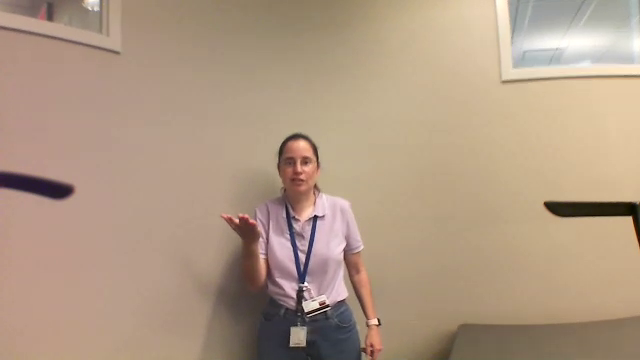land: (213, 206, 266, 244)
